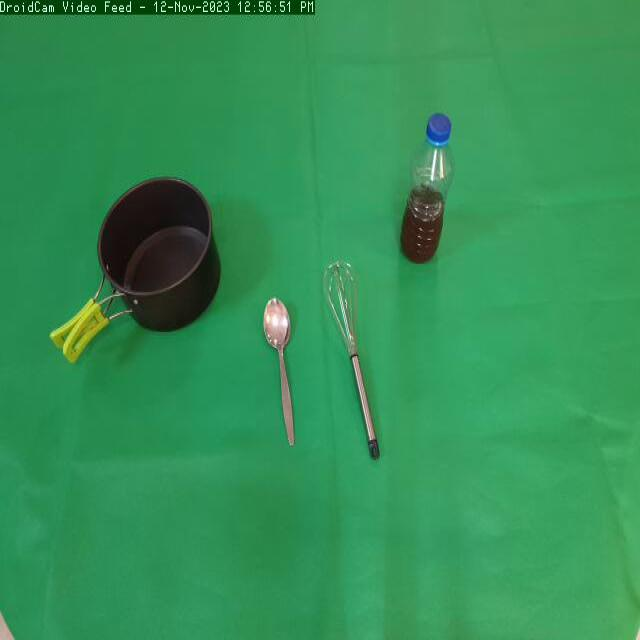fullbottle: (398, 107, 459, 274)
pot: (51, 172, 228, 371)
spoon: (260, 293, 309, 457)
whisk: (320, 258, 393, 465)
